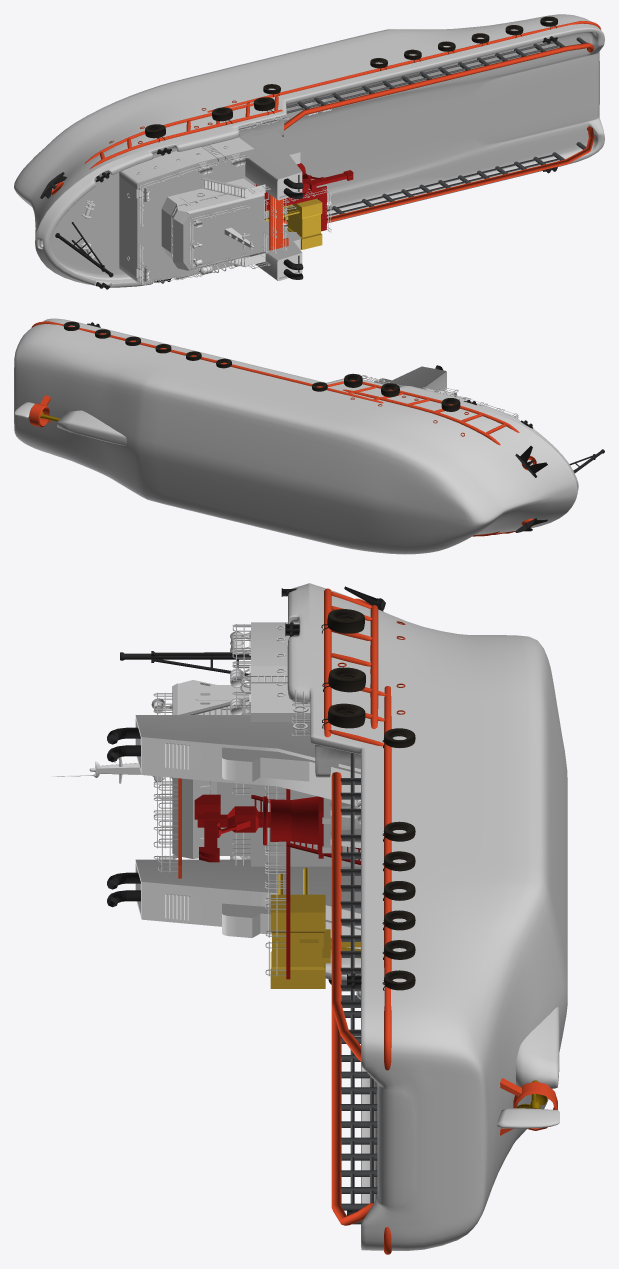
Rendered from ship.obj.
3 renders of one model, top to bottom at view 1: azimuth 30°, elevation 25°; view 2: azimuth 150°, elevation 25°; view 3: azimuth 270°, elevation 25°, orthographic. The views are drawn at different scales.
Parts seen in each view (by area): view 1: 12218_tugboat_boat, 12218_tugboat_cabine, 12218_tugboat_tubeR, 12218_tugboat_boatstronger001, 12218_tugboat_undertubeholder001, 12218_tugboat_tubeholder001, 12218_tugboat_tubeholder, 12218_tugboat_undertubeholder, 12218_tugboat_box, 12218_tugboat_tubeL, 12218_tugboat_crane, 12218_tugboat_tubefloor (+2 smaller); view 2: 12218_tugboat_boat, 12218_tugboat_boatstronger001, 12218_tugboat_tubeR, 12218_tugboat_screwshell, 12218_tugboat_anchor002; view 3: 12218_tugboat_boat, 12218_tugboat_tubeR, 12218_tugboat_cabine, 12218_tugboat_tubeL, 12218_tugboat_crane, 12218_tugboat_box, 12218_tugboat_boatstronger001, 12218_tugboat_undertubeholder, 12218_tugboat_tubeholder001, 12218_tugboat_undertubeholder001, 12218_tugboat_tubeholder, 12218_tugboat_frontstick (+1 smaller).
Boxes of the visible parts, box(x1,y1,x2,y2) form: 12218_tugboat_boat: box(14, 14, 604, 287); 12218_tugboat_cabine: box(119, 137, 264, 282); 12218_tugboat_tubeR: box(242, 130, 302, 200); 12218_tugboat_boatstronger001: box(84, 21, 600, 169); 12218_tugboat_undertubeholder001: box(286, 37, 586, 113); 12218_tugboat_tubeholder001: box(284, 42, 594, 130); 12218_tugboat_tubeholder: box(283, 126, 594, 223); 12218_tugboat_undertubeholder: box(284, 142, 586, 226); 12218_tugboat_box: box(264, 198, 322, 249); 12218_tugboat_tubeL: box(248, 196, 302, 280); 12218_tugboat_crane: box(254, 163, 353, 231); 12218_tugboat_tubefloor: box(269, 194, 288, 250); 12218_tugboat_boat: box(14, 318, 578, 554); 12218_tugboat_boatstronger001: box(31, 321, 519, 445); 12218_tugboat_tubeR: box(374, 366, 446, 391); 12218_tugboat_screwshell: box(29, 395, 50, 427); 12218_tugboat_anchor002: box(515, 446, 547, 477); 12218_tugboat_boat: box(287, 583, 567, 1250); 12218_tugboat_tubeR: box(135, 715, 360, 805); 12218_tugboat_cabine: box(172, 622, 360, 866); 12218_tugboat_tubeL: box(135, 859, 360, 948); 12218_tugboat_crane: box(194, 788, 323, 979); 12218_tugboat_box: box(270, 867, 360, 988); 12218_tugboat_boatstronger001: box(324, 588, 391, 1070); 12218_tugboat_undertubeholder: box(340, 980, 377, 1224); 12218_tugboat_tubeholder001: box(331, 772, 360, 1061); 12218_tugboat_undertubeholder001: box(340, 753, 360, 1036); 12218_tugboat_tubeholder: box(331, 1006, 373, 1225); 12218_tugboat_frontstick: box(120, 651, 250, 675).
Size of the model in its own units: 6321 by 1564 by 2683.
